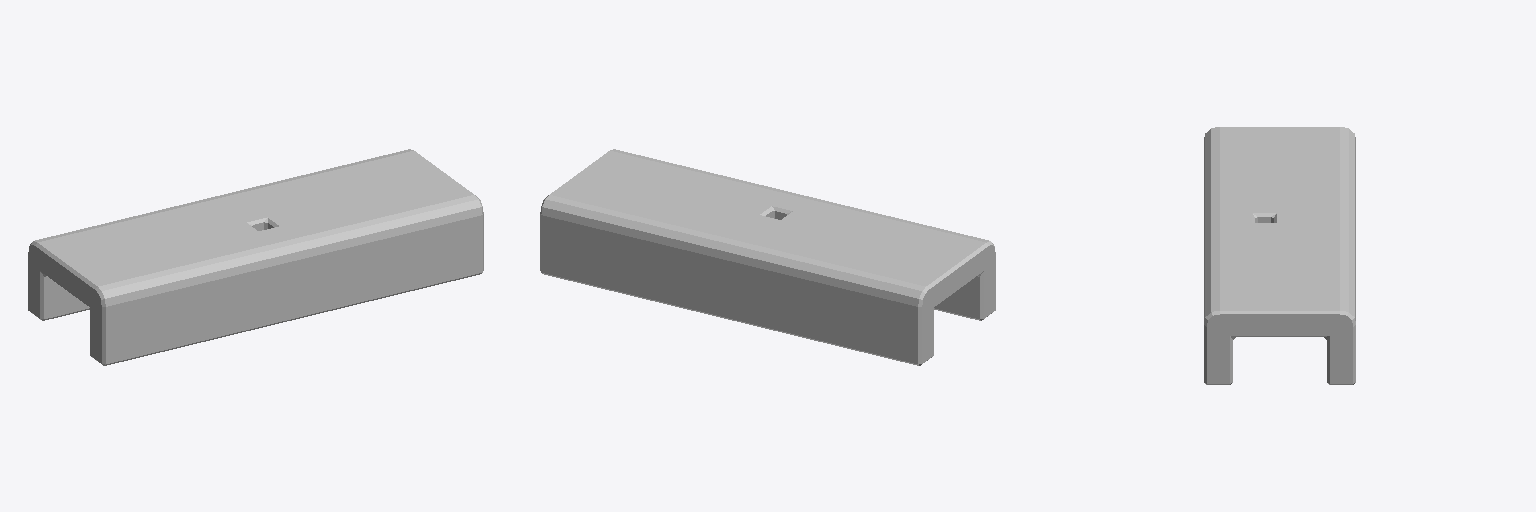
File: Bridge.obj
3 renders of one model, left to right at view 1: azimuth 30°, elevation 25°; view 2: azimuth 150°, elevation 25°; view 3: azimuth 270°, elevation 25°, orthographic.
Parts seen in each view (by area): view 1: Bridge_Cube.023; view 2: Bridge_Cube.023; view 3: Bridge_Cube.023.
Boxes of the visible parts, x1,y1,x2,y2 form: Bridge_Cube.023: [28, 149, 483, 365]; Bridge_Cube.023: [540, 149, 995, 365]; Bridge_Cube.023: [1204, 127, 1355, 384].
Bounding box in the file's own units: 7.16 × 1.34 × 2.48.